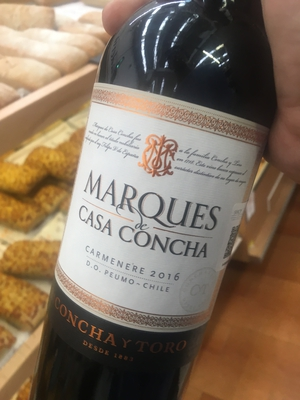marques de casa concha carmenere: (40, 32, 271, 397)
